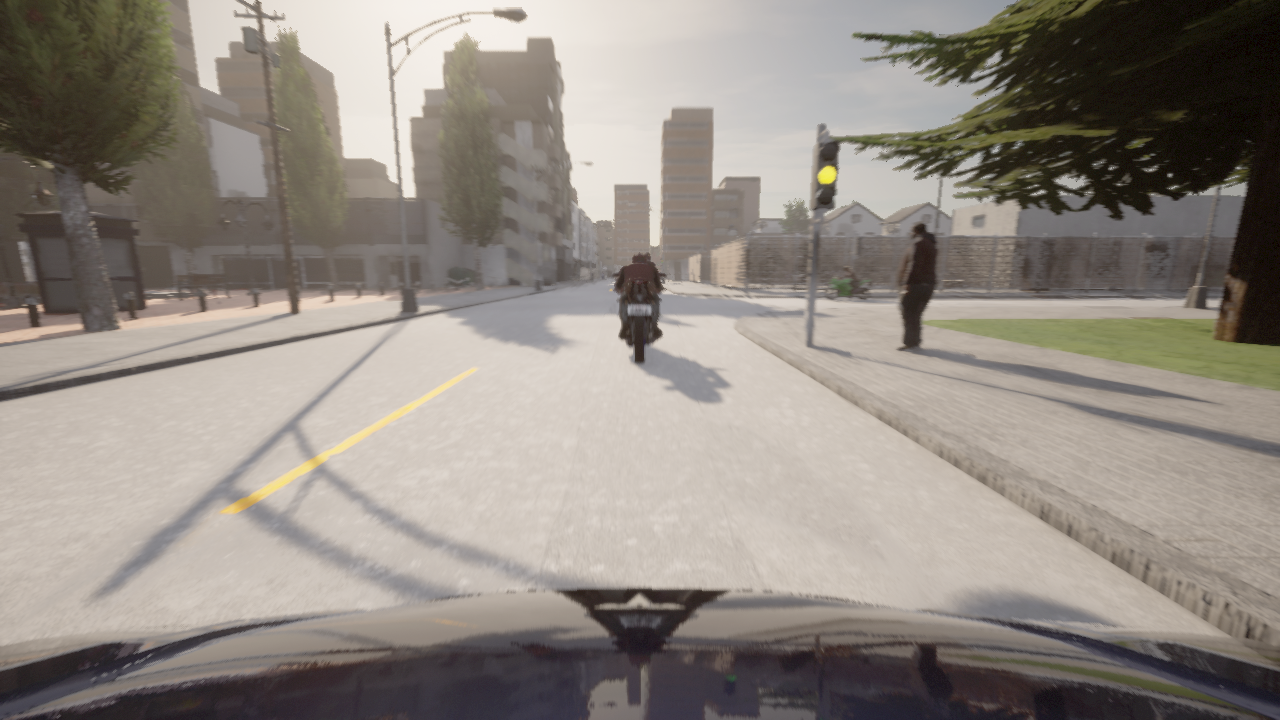cyclist: (0, 588, 1279, 719), (613, 273, 666, 363), (825, 274, 872, 300), (750, 265, 772, 282), (870, 266, 891, 282), (781, 269, 806, 282), (823, 270, 840, 281), (790, 274, 808, 282), (945, 270, 946, 271)
pedestrian: (894, 221, 938, 351)
